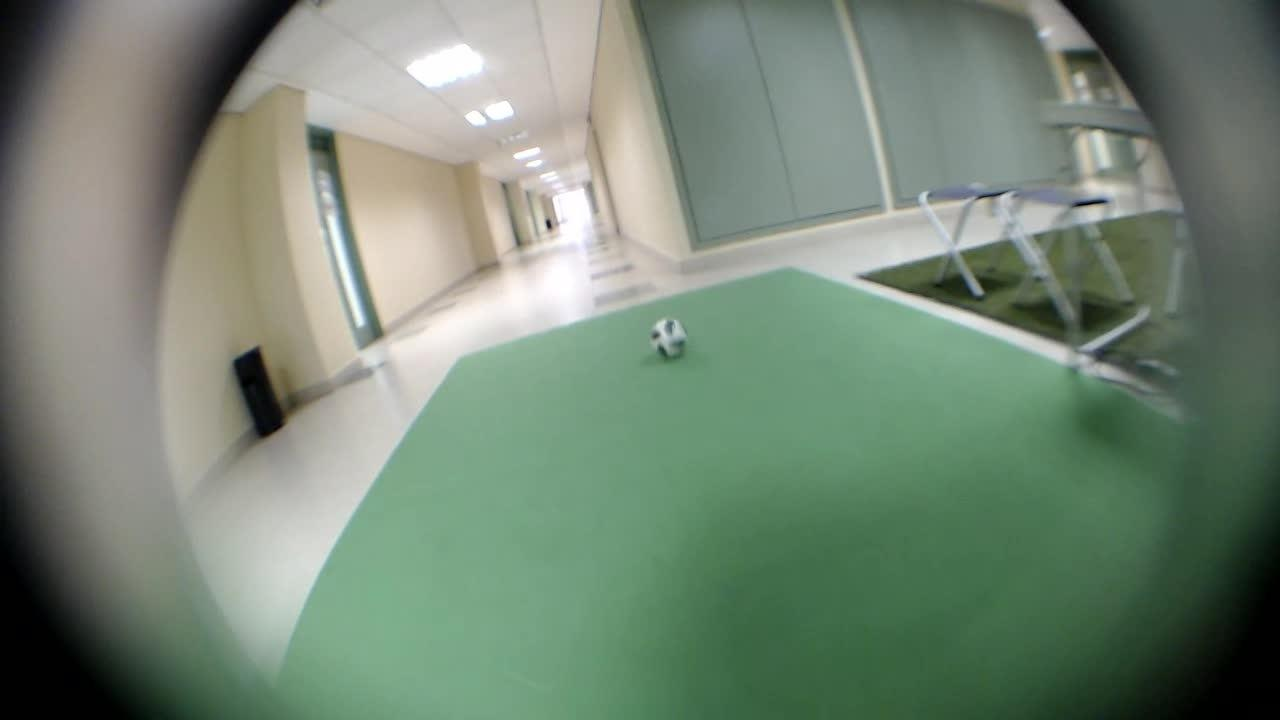ball: (642, 307, 692, 361)
